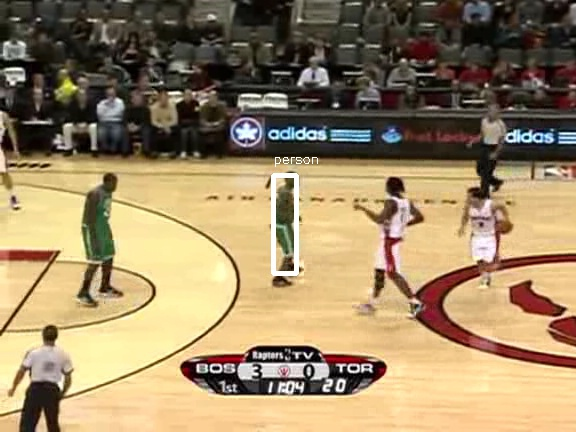person: (267, 182, 301, 263), (266, 182, 300, 263), (268, 182, 302, 263), (267, 181, 301, 262), (267, 183, 301, 264)
target_negative: (10, 172, 525, 380), (176, 259, 402, 420), (182, 369, 337, 417), (400, 270, 412, 418), (357, 331, 567, 339), (106, 306, 140, 315)
